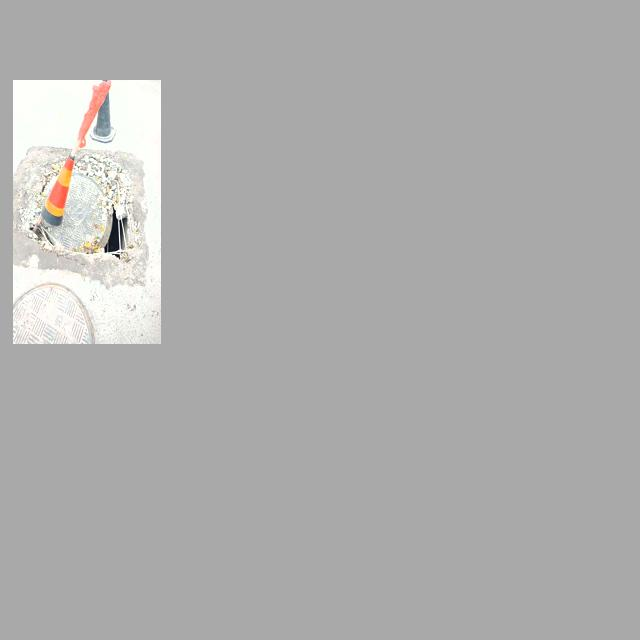circle: (35, 170, 129, 254)
